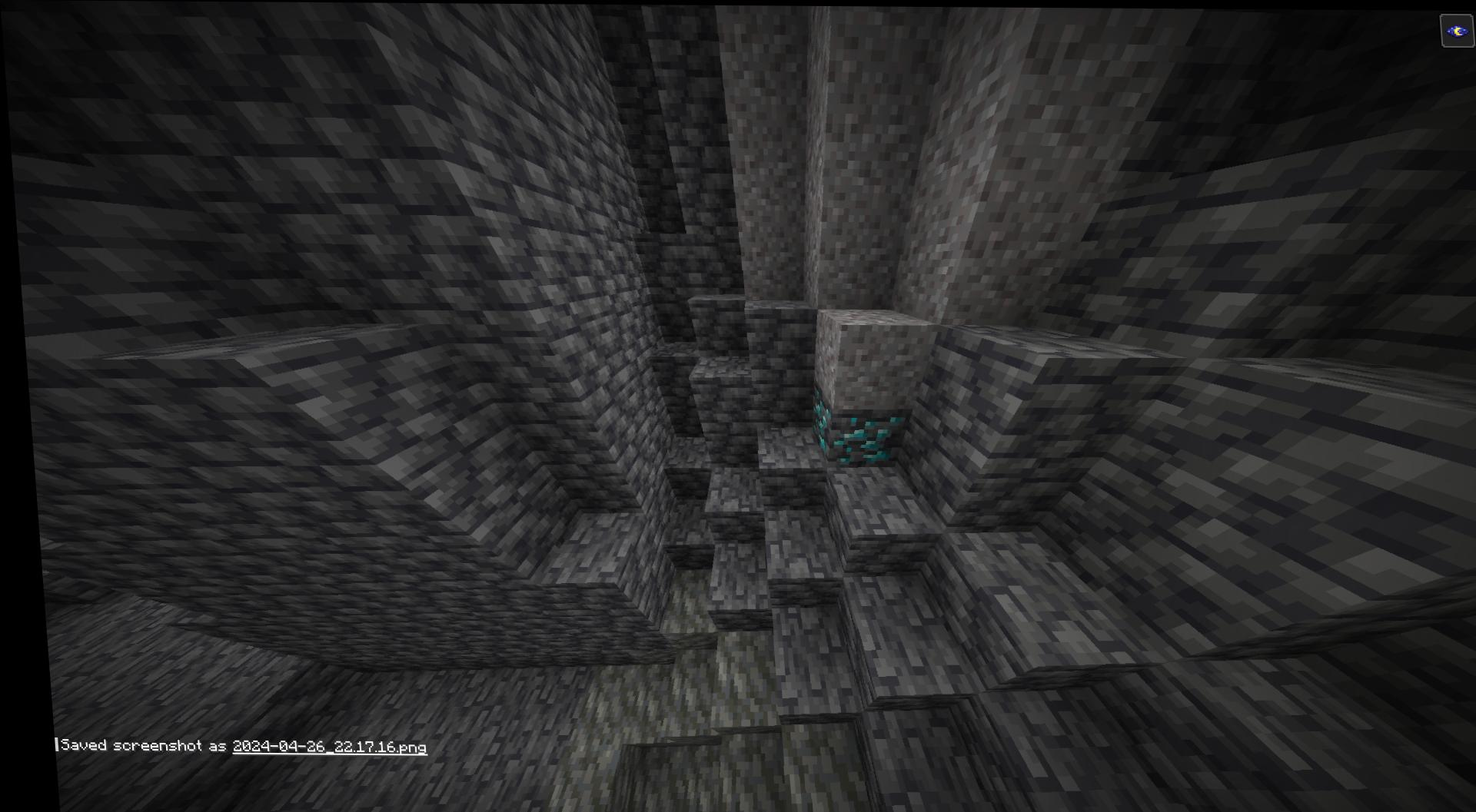diamond ore: (820, 408, 907, 467), (800, 382, 827, 459)
